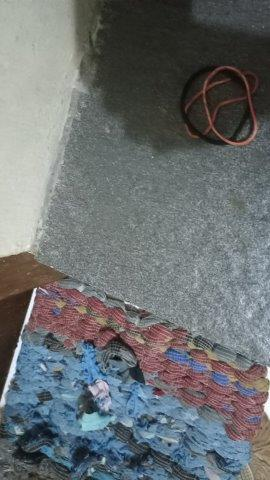karet: (180, 66, 259, 146)
